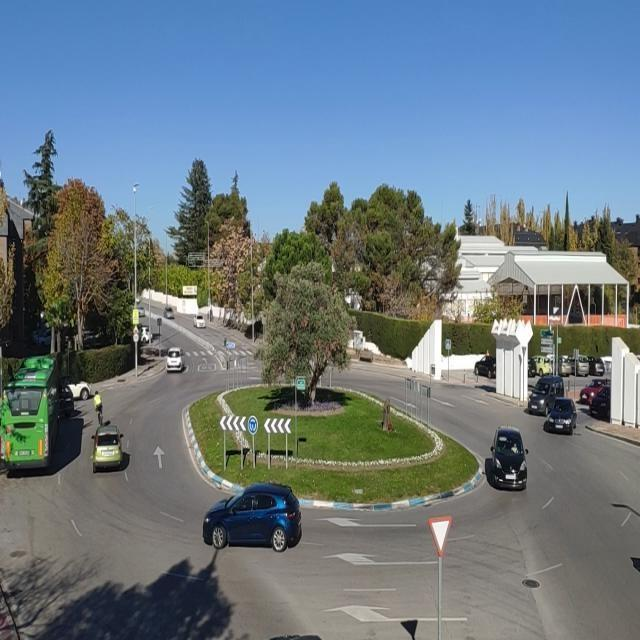Bus: (0, 356, 53, 479)
Car: (196, 491, 310, 552), (488, 429, 530, 490), (90, 424, 124, 471), (527, 376, 565, 415), (544, 396, 580, 433), (158, 344, 187, 376), (62, 378, 91, 401), (564, 354, 590, 376), (474, 356, 497, 378), (530, 355, 554, 376), (551, 356, 573, 376), (584, 356, 605, 376), (139, 326, 152, 344), (193, 314, 206, 328), (164, 307, 174, 319), (136, 306, 146, 317)
